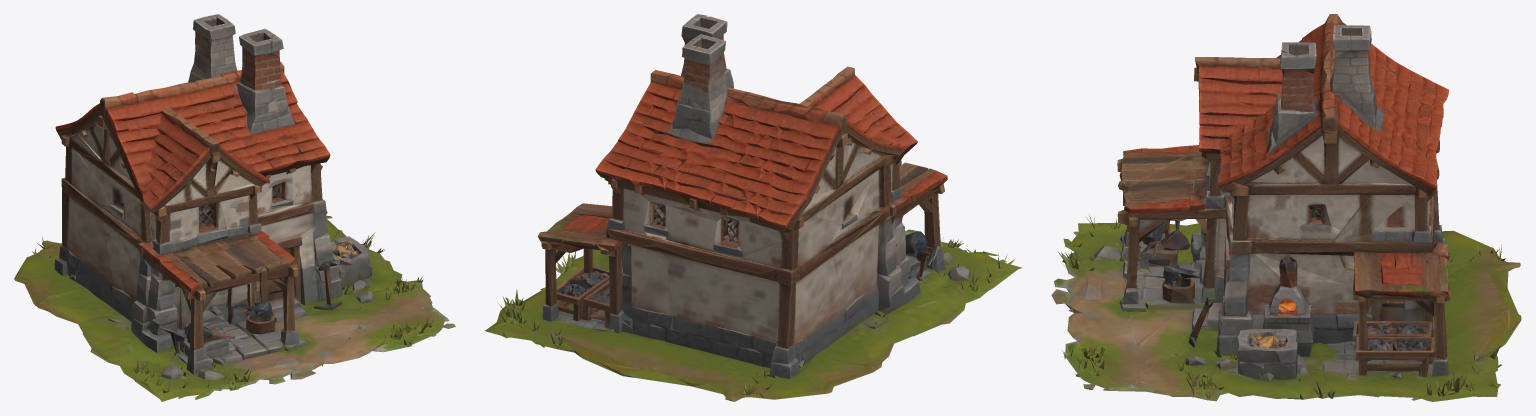
Rendered from minecamp.glb.
3 renders of one model, left to right at view 1: azimuth 30°, elevation 25°; view 2: azimuth 150°, elevation 25°; view 3: azimuth 270°, elevation 25°, orthographic. The views are drawn at different scales.
Bounding box in the file's own units: 1.76 × 1.29 × 1.9.
Materials: 1 (1 with a texture image).
